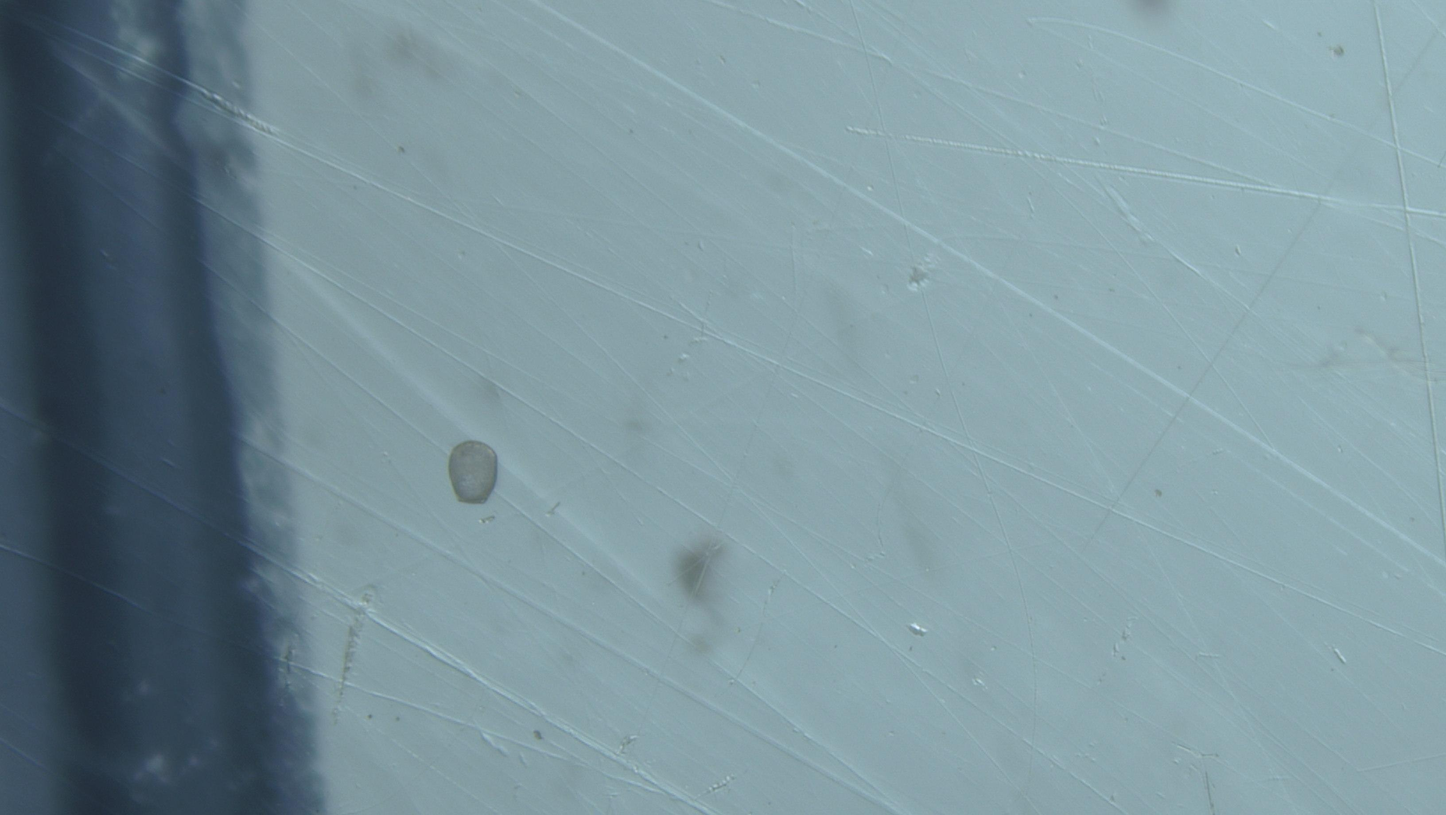dead: (449, 441, 498, 505)
